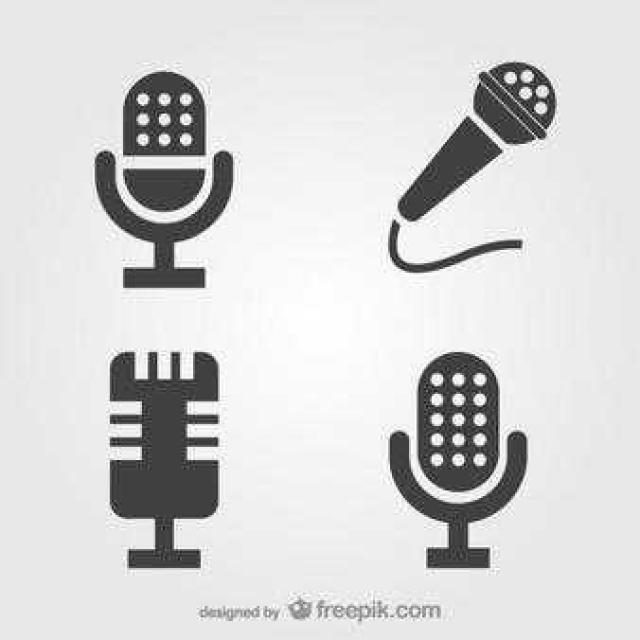microphone: (97, 72, 233, 288), (391, 350, 526, 564), (400, 64, 554, 227), (109, 350, 221, 568)
